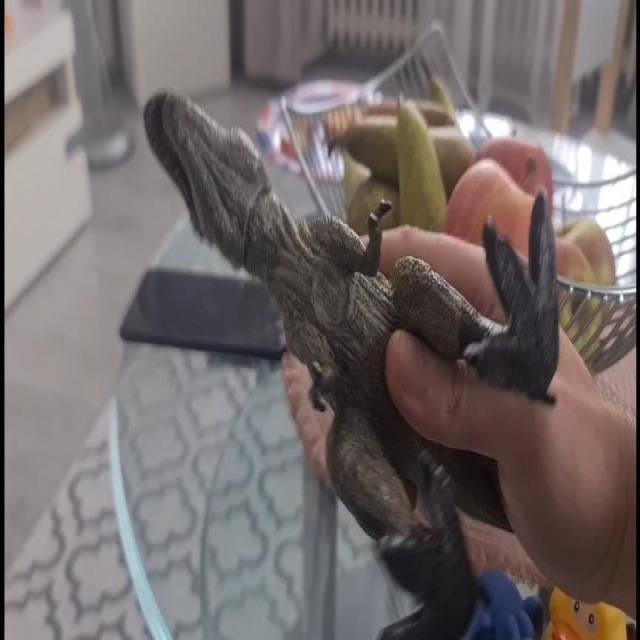hard-toy: (146, 95, 560, 640)
